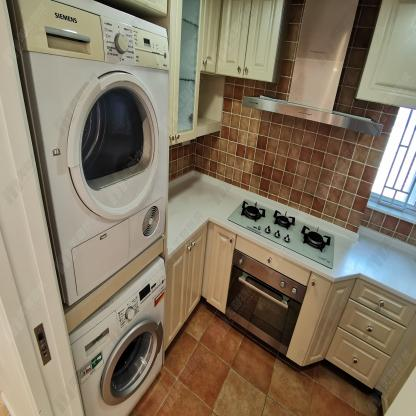Cupboard: (307, 278, 416, 395), (169, 222, 238, 347), (204, 0, 280, 81)
Exhaust Hood: (244, 2, 384, 136)
Oven: (220, 247, 308, 357)
Stove: (226, 196, 334, 272)
Washing Machine: (69, 255, 163, 415)
